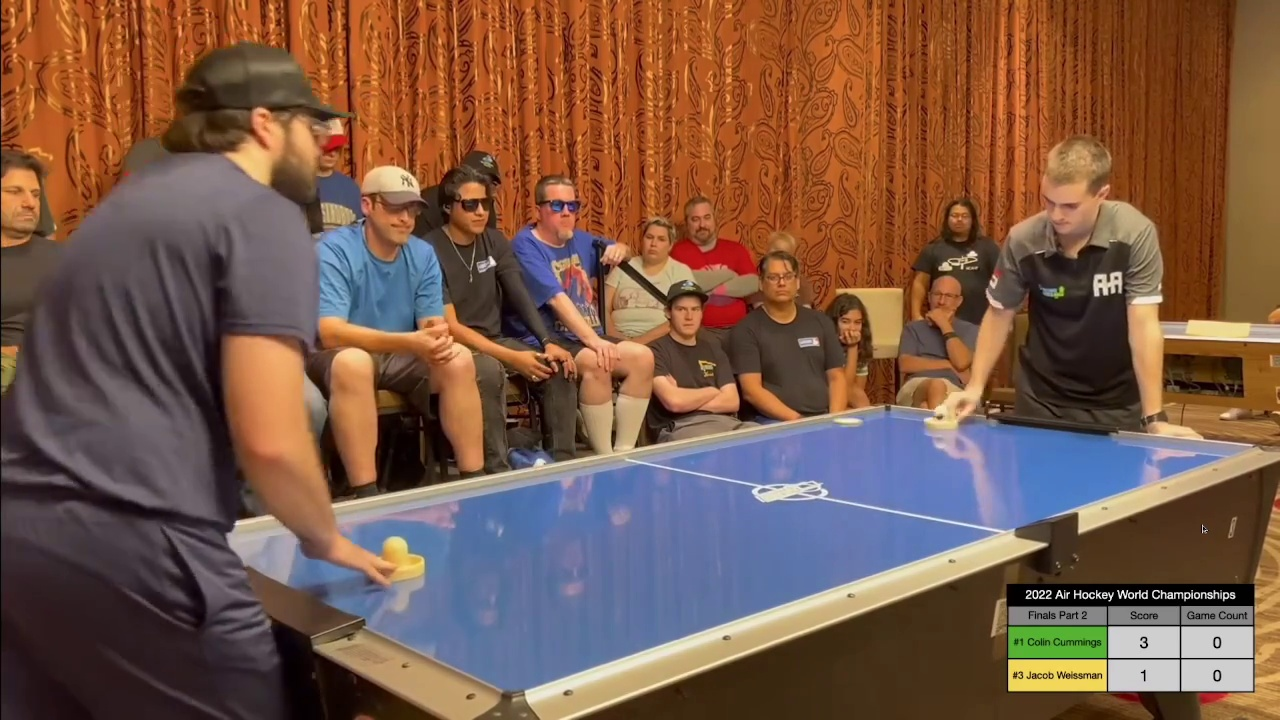player: (371, 535, 427, 577), (922, 403, 960, 431)
puck: (835, 414, 866, 427)
table: (224, 398, 1278, 703)
